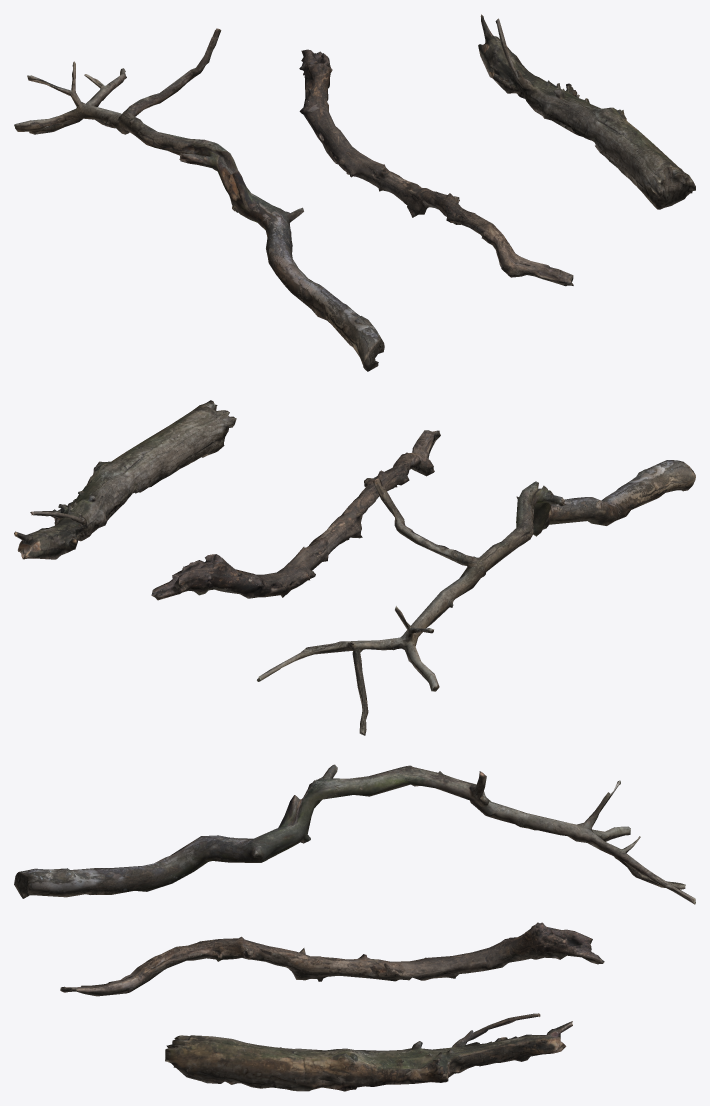
Rendered from dry_branches_medium_01.gltf.
The picture shows the model from 3 angles, top to bottom: view 1: azimuth 30°, elevation 25°; view 2: azimuth 150°, elevation 25°; view 3: azimuth 270°, elevation 25°; orthographic projection. The views are drawn at different scales.
Visible parts, largest first — view 1: dry_branches_medium_01_a, dry_branches_medium_01_c, dry_branches_medium_01_b; view 2: dry_branches_medium_01_a, dry_branches_medium_01_c, dry_branches_medium_01_b; view 3: dry_branches_medium_01_a, dry_branches_medium_01_c, dry_branches_medium_01_b.
Part boxes in pixels (bbox=[...]): dry_branches_medium_01_a: bbox=[14, 28, 384, 371]; dry_branches_medium_01_c: bbox=[478, 14, 695, 209]; dry_branches_medium_01_b: bbox=[299, 49, 573, 286]; dry_branches_medium_01_a: bbox=[257, 460, 695, 735]; dry_branches_medium_01_c: bbox=[14, 400, 236, 559]; dry_branches_medium_01_b: bbox=[151, 430, 440, 600]; dry_branches_medium_01_a: bbox=[14, 764, 695, 904]; dry_branches_medium_01_c: bbox=[165, 1013, 572, 1091]; dry_branches_medium_01_b: bbox=[60, 922, 604, 996].
Size of the model in its own units: 1.06 by 0.3401 by 1.3.
1 material, 1 textured.
